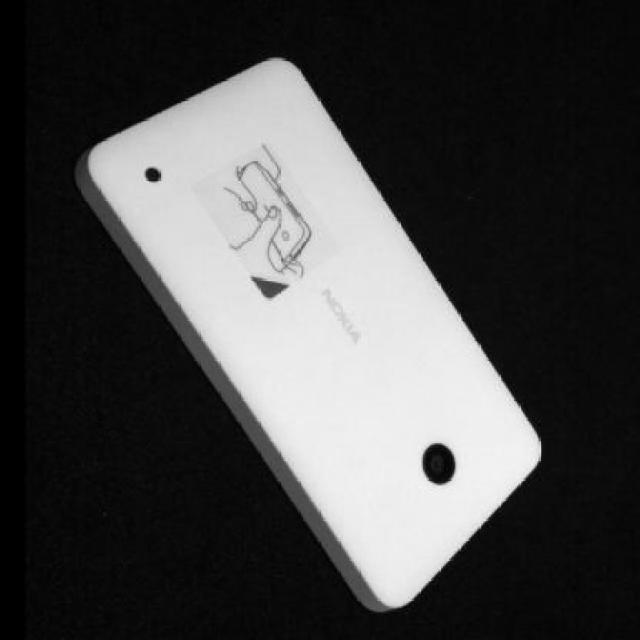fake: (75, 22, 543, 630)
